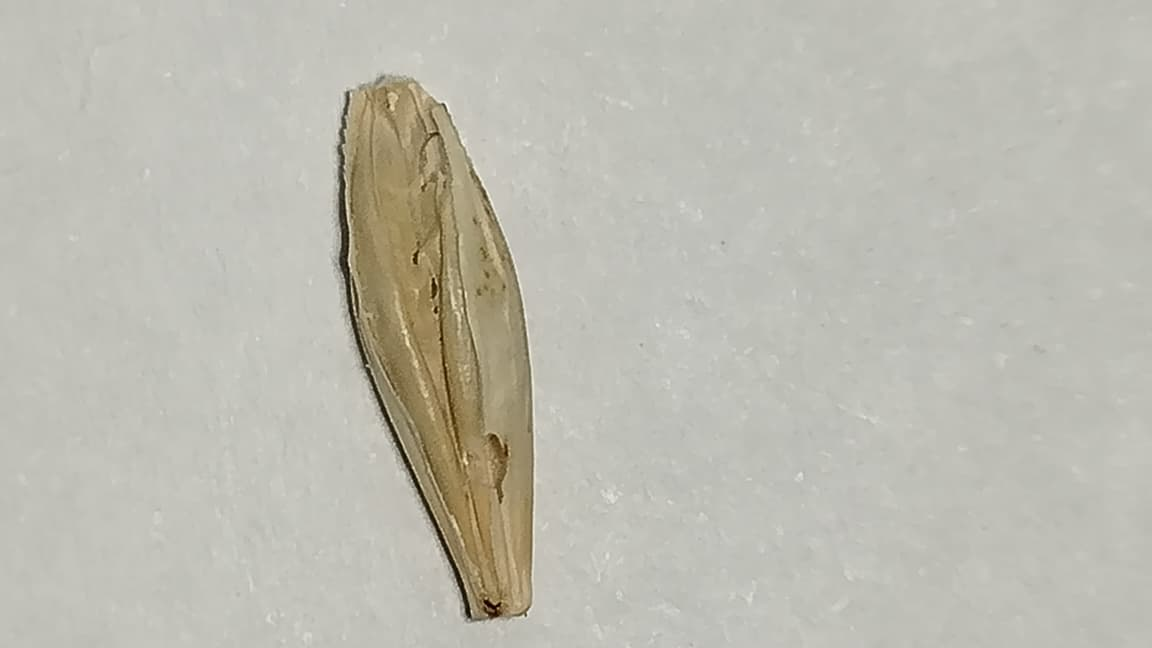damage: (343, 77, 532, 618)
insectdamage: (379, 128, 478, 335), (486, 434, 508, 501)
